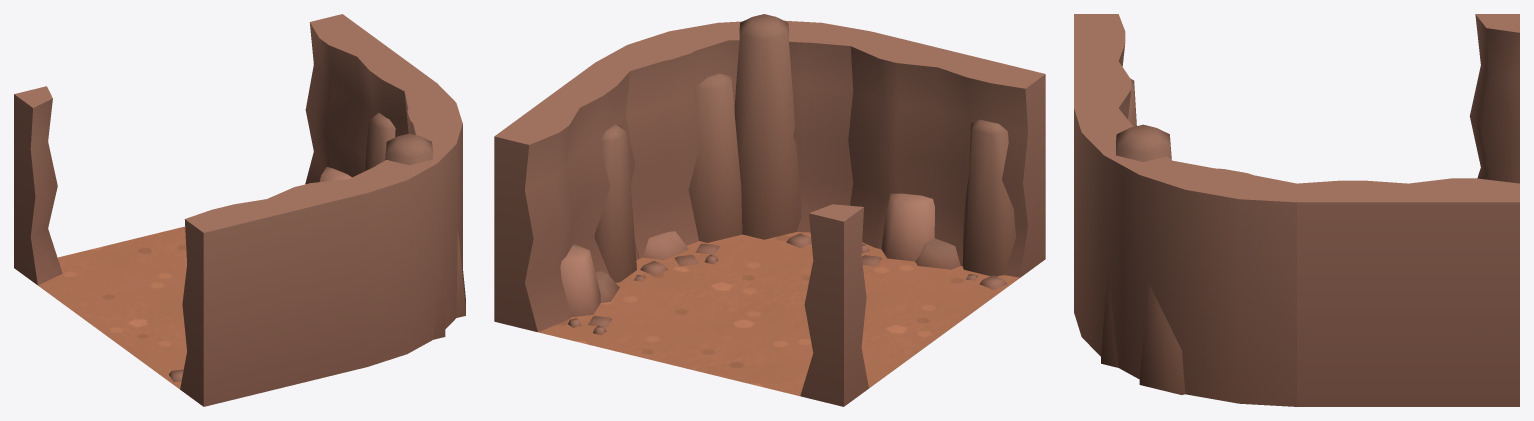
The model's file is corridor-wide-corner.glb.
3 views of the same model, side by side, from view 1: azimuth 30°, elevation 25°; view 2: azimuth 150°, elevation 25°; view 3: azimuth 270°, elevation 25° (orthographic). The views are drawn at different scales.
Parts seen in each view (by area): view 1: corridor-wide-corner; view 2: corridor-wide-corner; view 3: corridor-wide-corner.
Part boxes in pixels (x1,y1,x2,y2): corridor-wide-corner: (14, 14, 465, 406); corridor-wide-corner: (494, 14, 1045, 406); corridor-wide-corner: (1074, 14, 1519, 406).
Size of the model in its own units: 8 by 4.4 by 8.
Materials: 1 (1 with a texture image).
